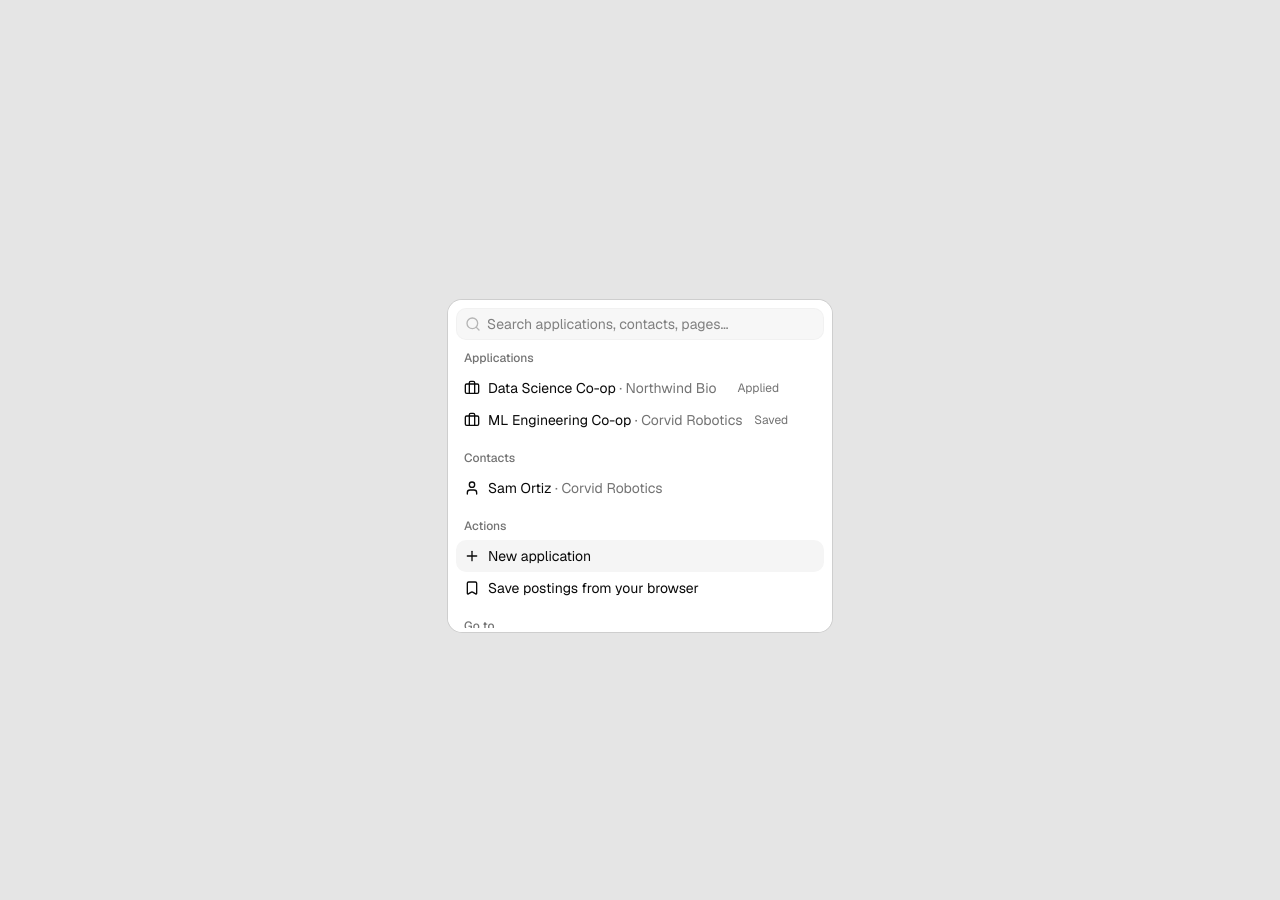
it: CommandMenu › opens an application's detail panel
Click the text "Data Science Co-op": click(602, 388) [488,378,717,398]
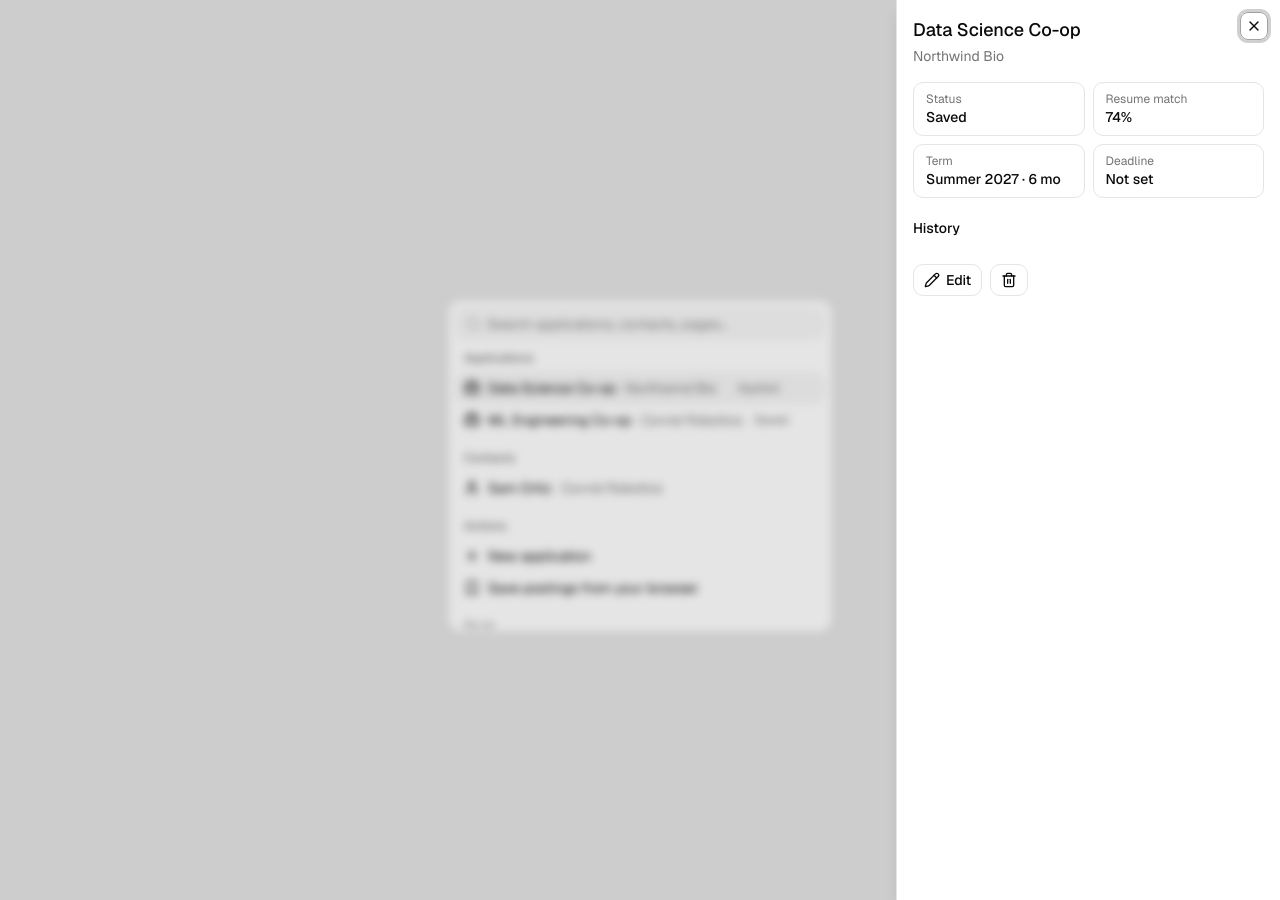
Expected: the heading "Data Science Co-op" is shown, [913,18,1081,41]
